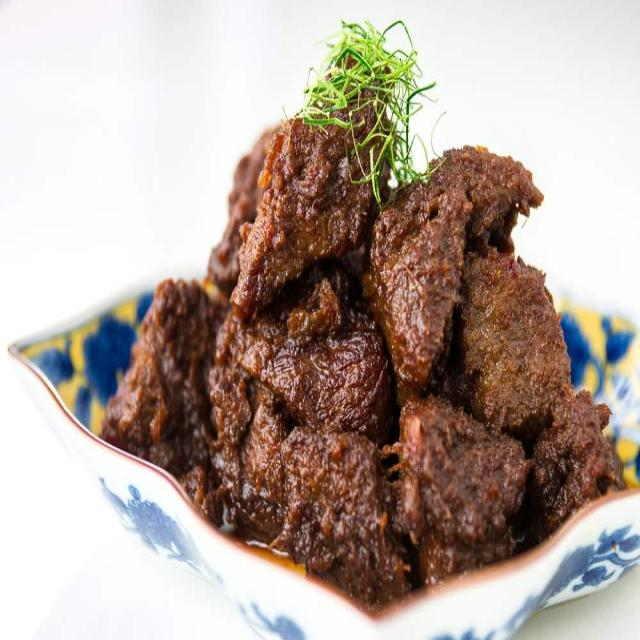Rendang: (83, 61, 624, 566)
